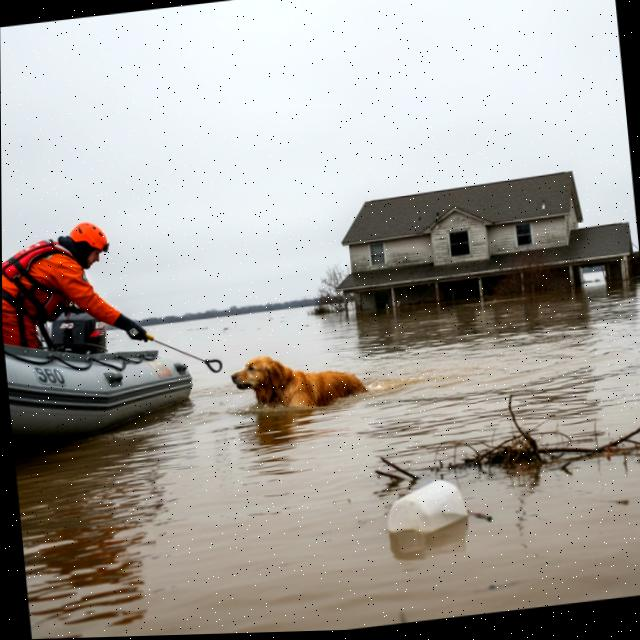rescuer: (2, 202, 159, 382), (214, 326, 392, 430)
